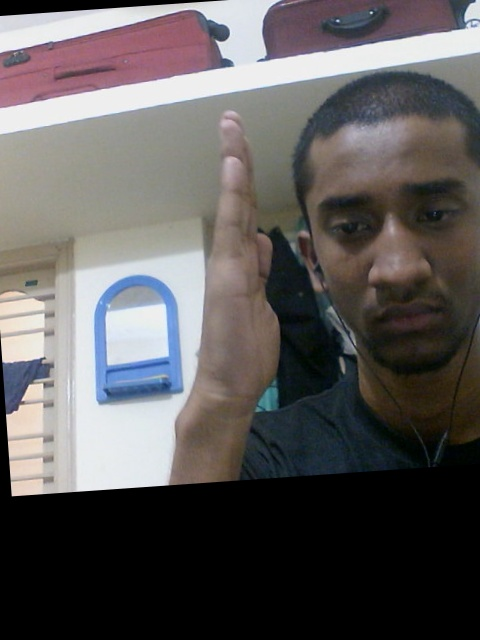hand: (191, 103, 286, 405)
